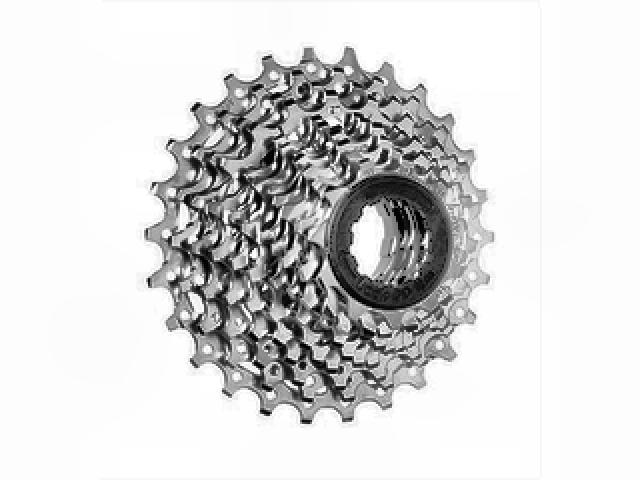cassette: (143, 45, 497, 426)
